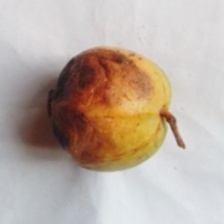guava: (36, 48, 221, 208)
